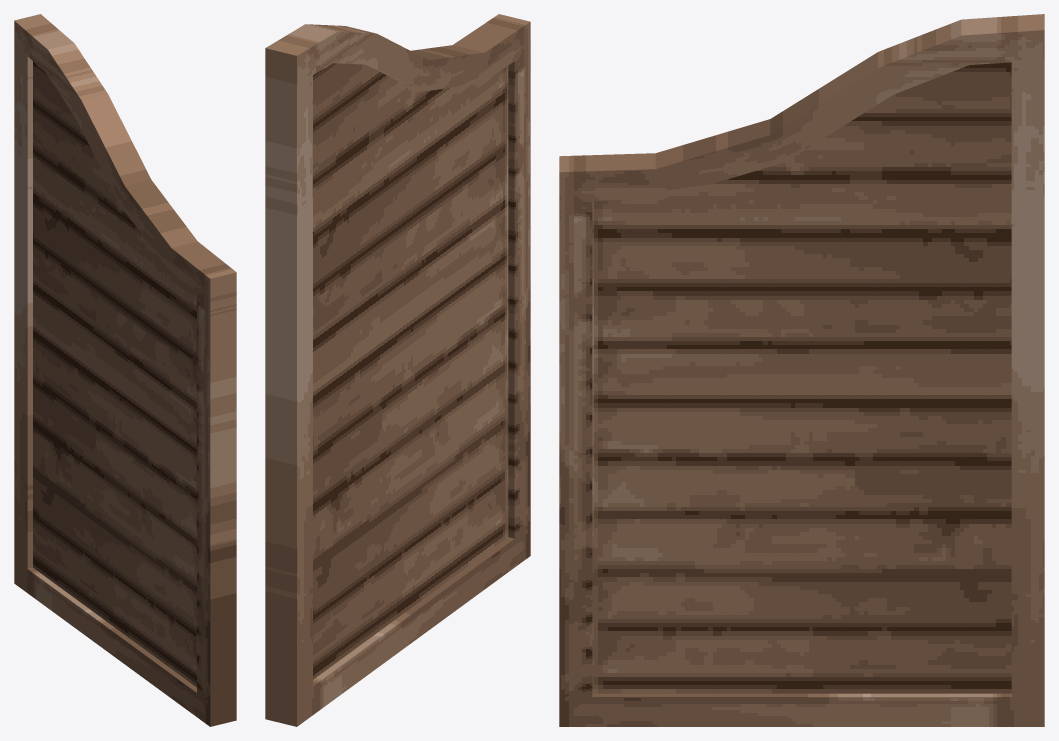
File: halfDoor.glb
3 renders of one model, left to right at view 1: azimuth 30°, elevation 25°; view 2: azimuth 150°, elevation 25°; view 3: azimuth 270°, elevation 25°, orthographic. The views are drawn at different scales.
Visible parts, largest first — view 1: Cube; view 2: Cube; view 3: Cube.
Part boxes in pixels (box(x1,y1,x2,y2)): Cube: box(14, 14, 236, 726); Cube: box(265, 14, 530, 726); Cube: box(559, 14, 1044, 726).
Size of the model in its own units: 0.069 by 1.4 by 0.8821.
Materials: 1 (1 with a texture image).
